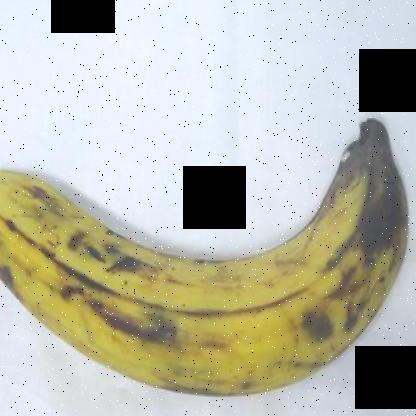overripe: (0, 117, 415, 408)
rotten: (284, 121, 415, 297)
